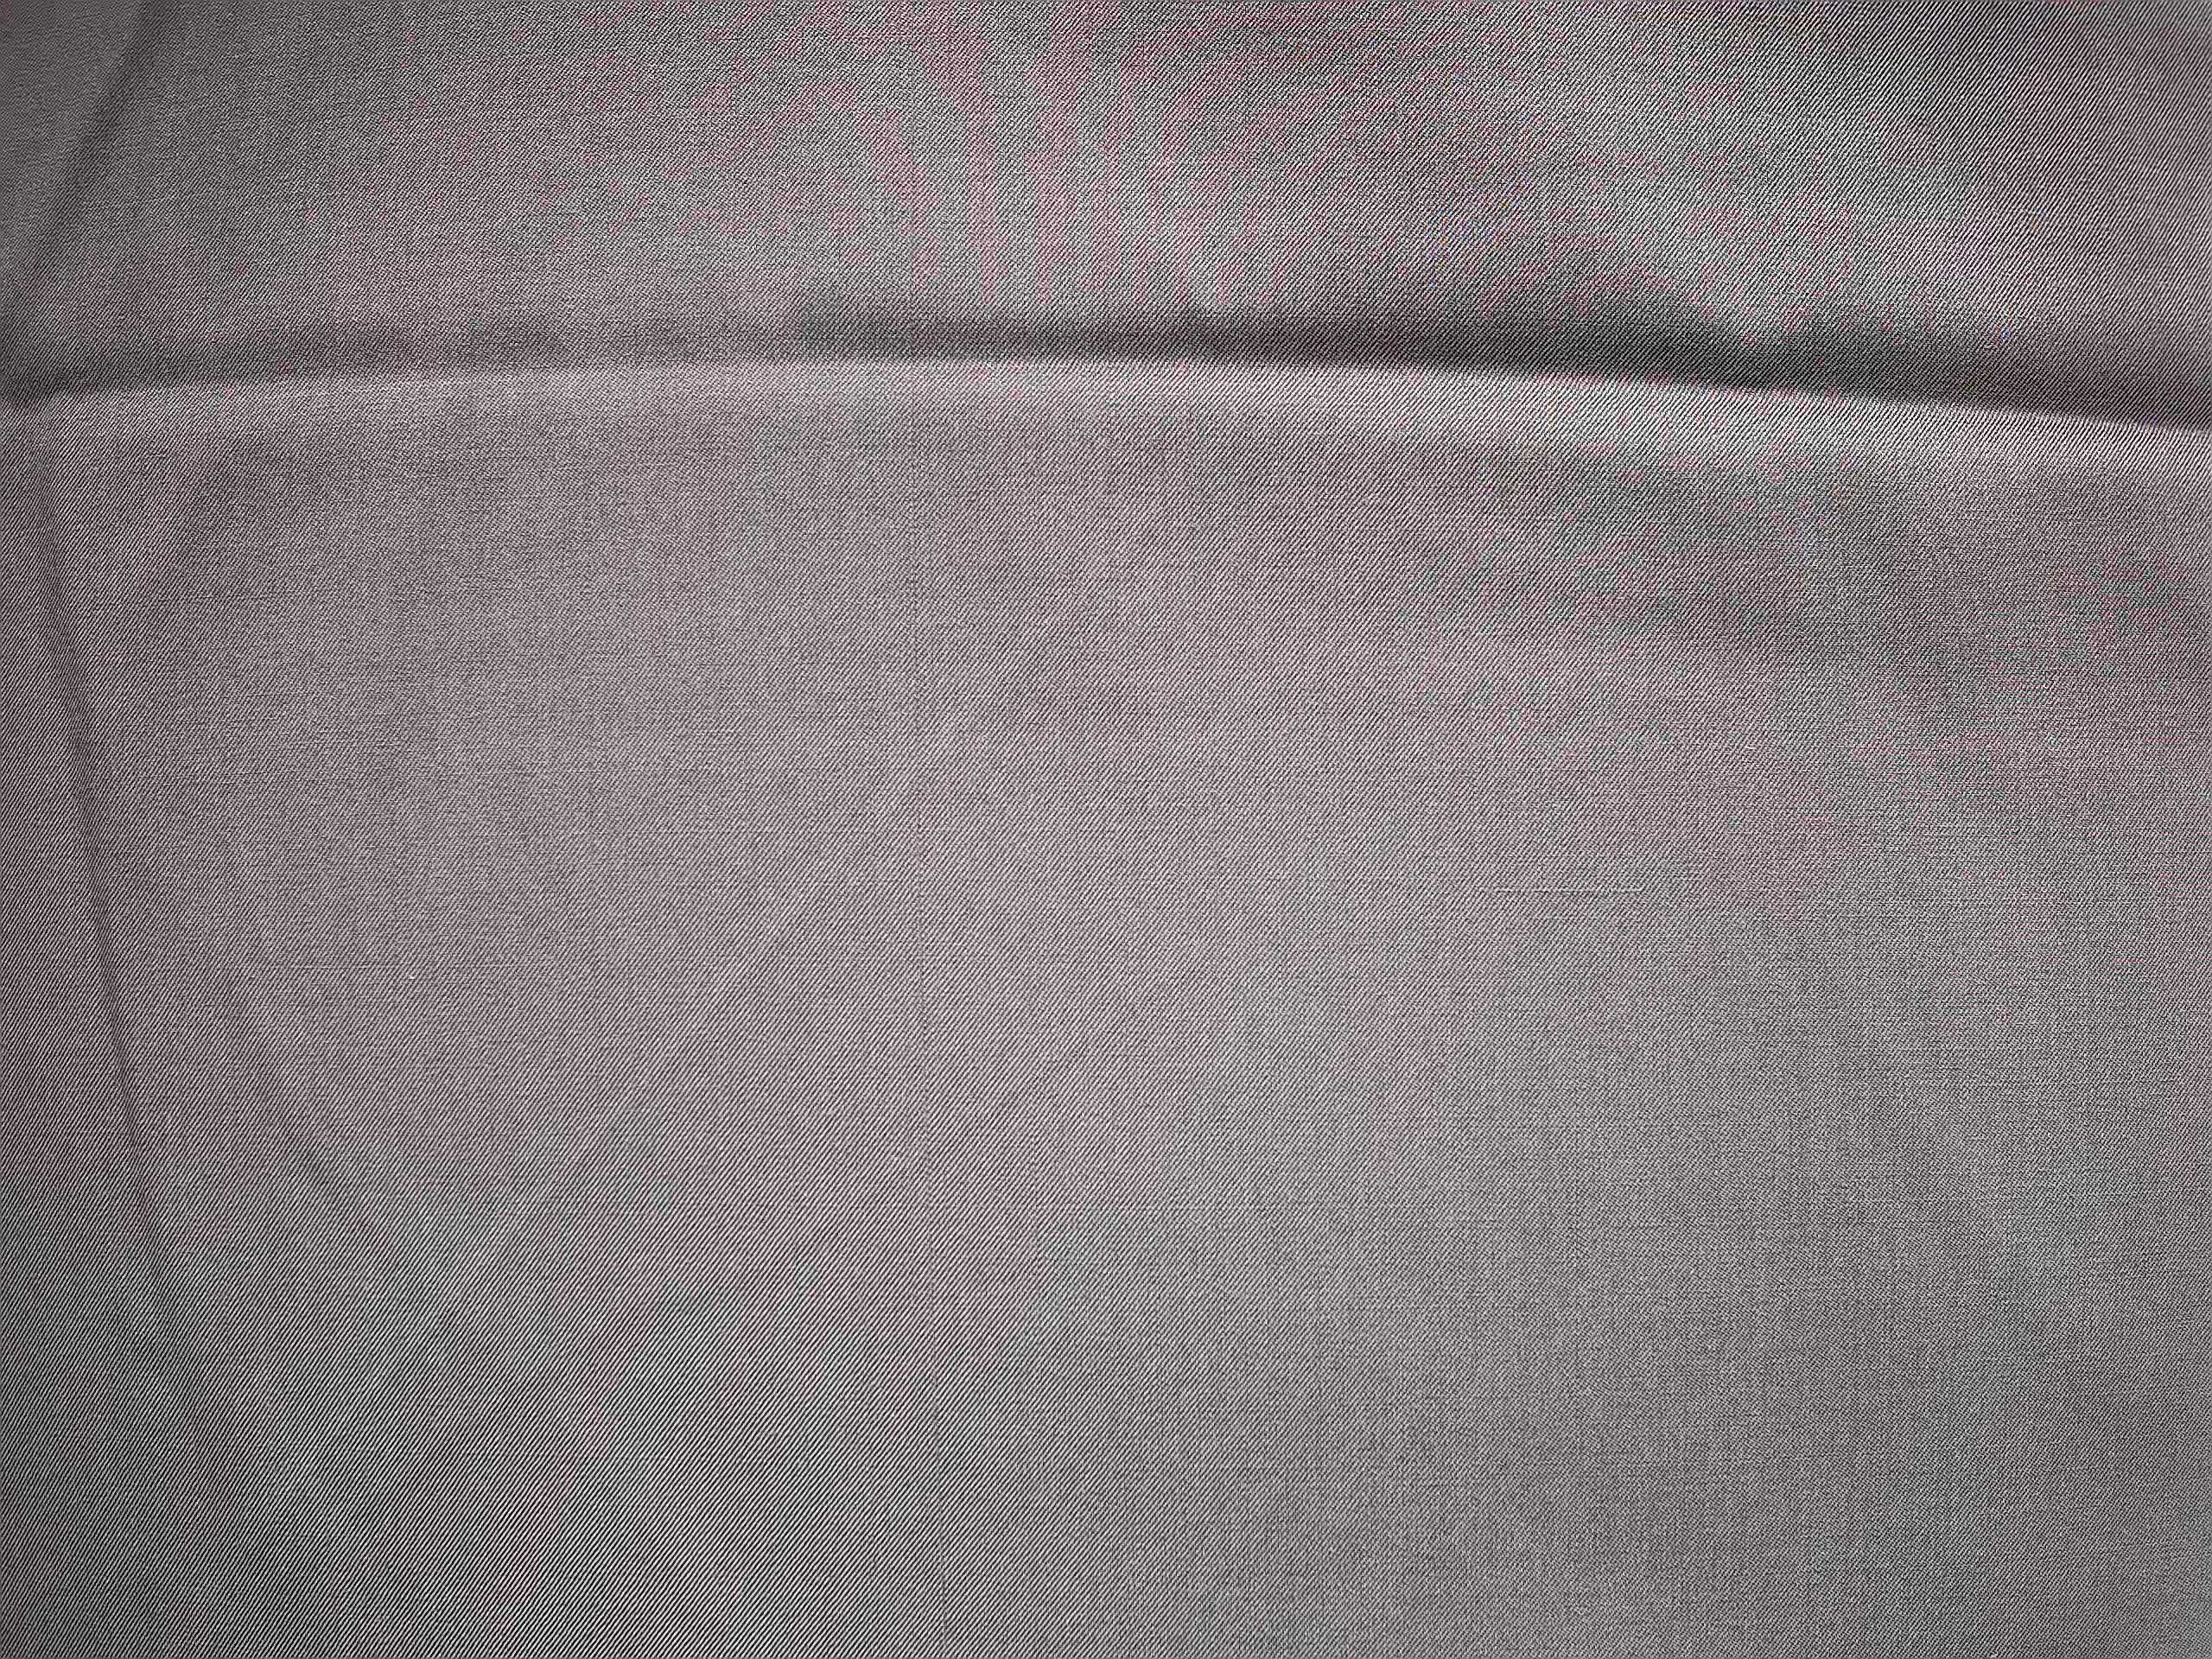hanging-warp: (900, 54, 961, 1636)
